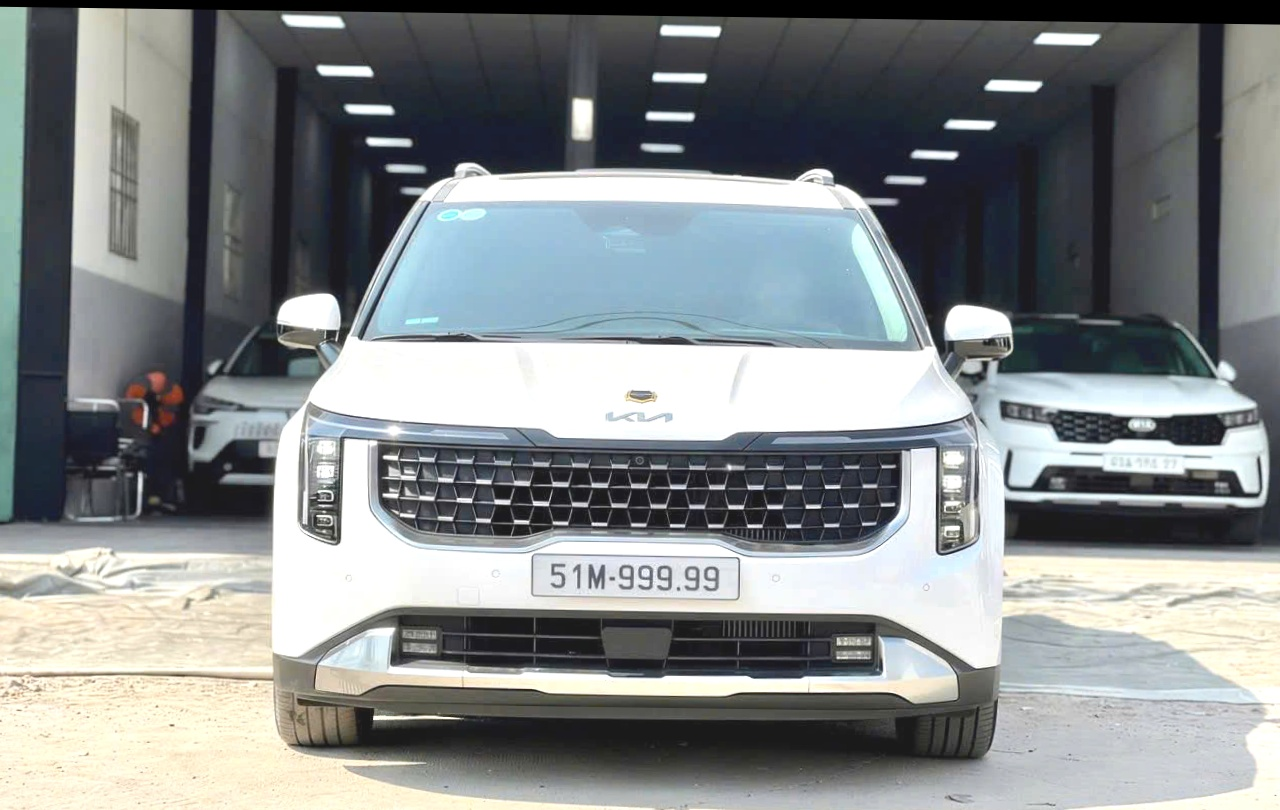Bien-so: (559, 550, 779, 608)
